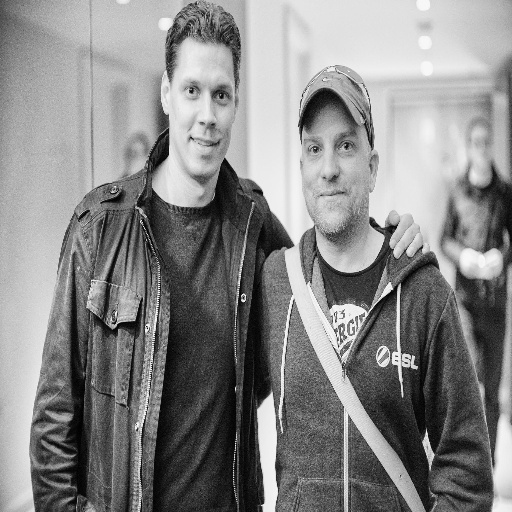hand: (380, 209, 427, 267), (477, 246, 502, 279), (458, 247, 479, 279)
